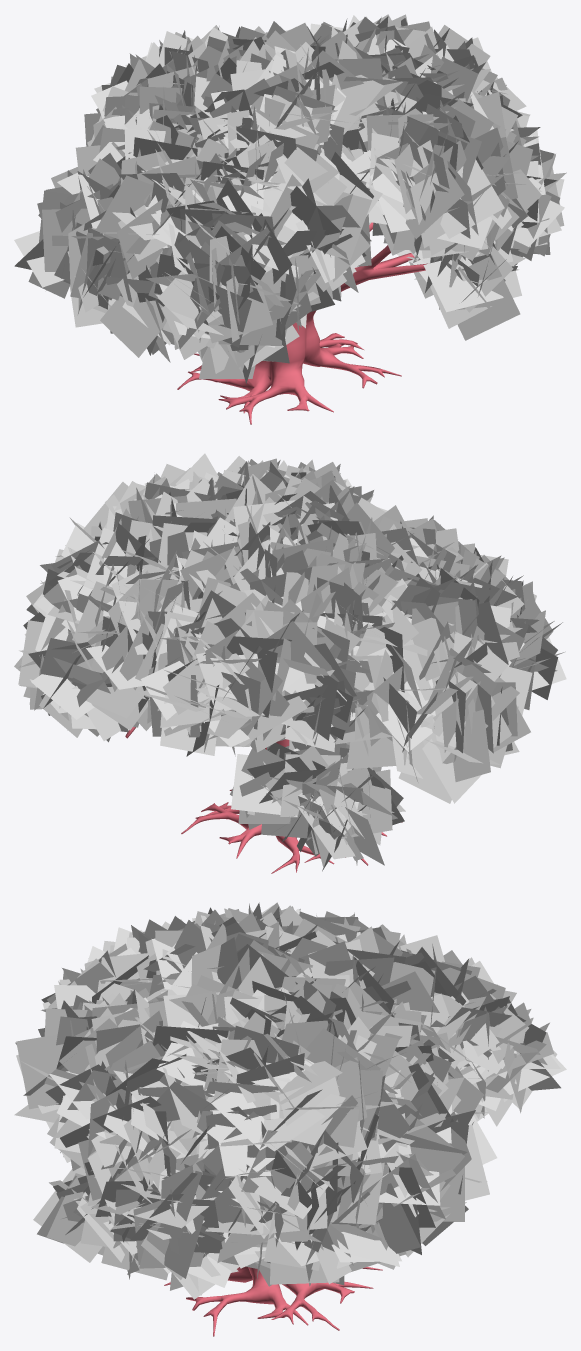
Rendered from tree_retopo.fbx.
The picture shows the model from 3 angles, top to bottom: view 1: azimuth 30°, elevation 25°; view 2: azimuth 150°, elevation 25°; view 3: azimuth 270°, elevation 25°; orthographic projection. The views are drawn at different scales.
Parts seen in each view (by area): view 1: Plane.1283, Plane.004; view 2: Plane.1283, Plane.004; view 3: Plane.1283, Plane.004.
Part boxes in pixels (x1,y1,x2,y2): Plane.1283: (14, 14, 566, 383); Plane.004: (177, 222, 427, 424); Plane.1283: (14, 453, 566, 871); Plane.004: (125, 727, 402, 873); Plane.1283: (14, 902, 566, 1299); Plane.004: (164, 1266, 382, 1336).
Size of the model in its own units: 9768 by 6761 by 8932.
